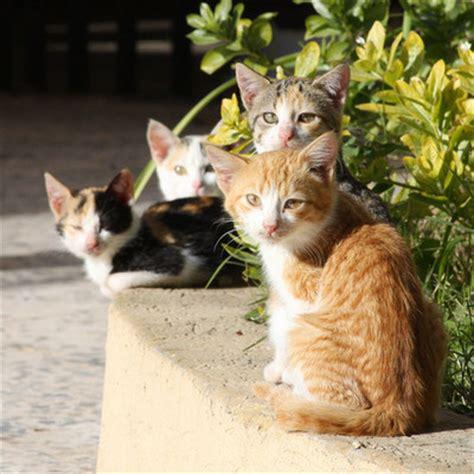cat: (207, 131, 443, 435), (43, 172, 257, 290), (235, 61, 350, 154), (146, 119, 235, 199)
